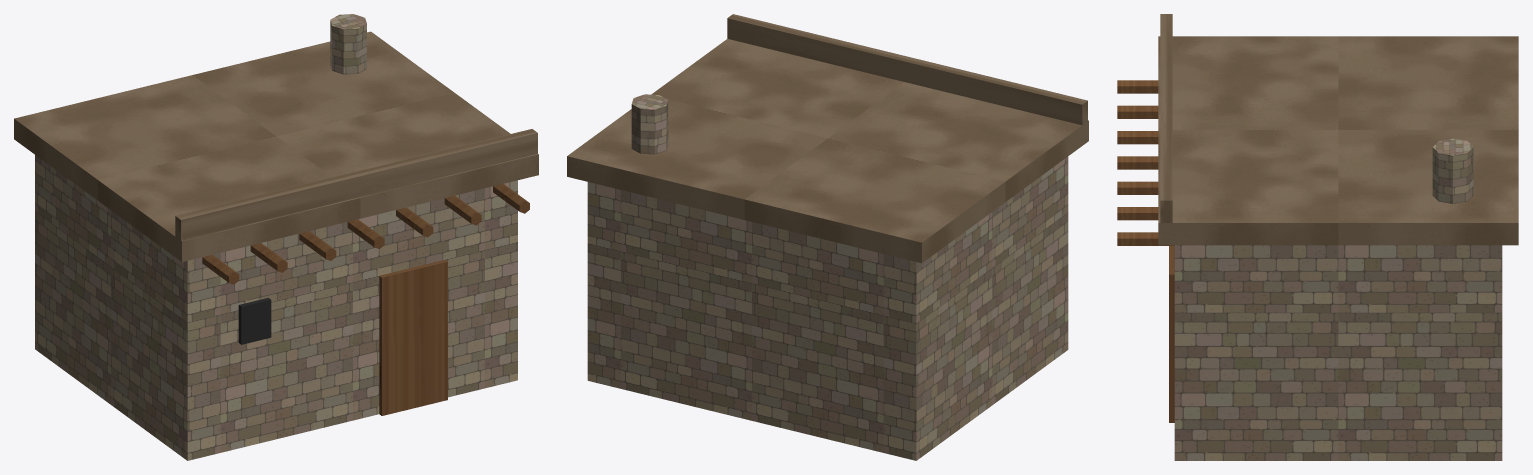
The model's file is house_saklya_1f.glb.
The picture shows the model from 3 angles, left to right: view 1: azimuth 30°, elevation 25°; view 2: azimuth 150°, elevation 25°; view 3: azimuth 270°, elevation 25°; orthographic projection. The views are drawn at different scales.
Parts seen in each view (by area): view 1: House_Saklya_1F; view 2: House_Saklya_1F; view 3: House_Saklya_1F.
Boxes of the visible parts, x1,y1,x2,y2 form: House_Saklya_1F: (14, 14, 538, 460); House_Saklya_1F: (567, 14, 1088, 460); House_Saklya_1F: (1117, 14, 1518, 460).
Bounding box in the file's own units: 5.4 × 3.95 × 4.9.
Materials: 4 (3 with a texture image).
